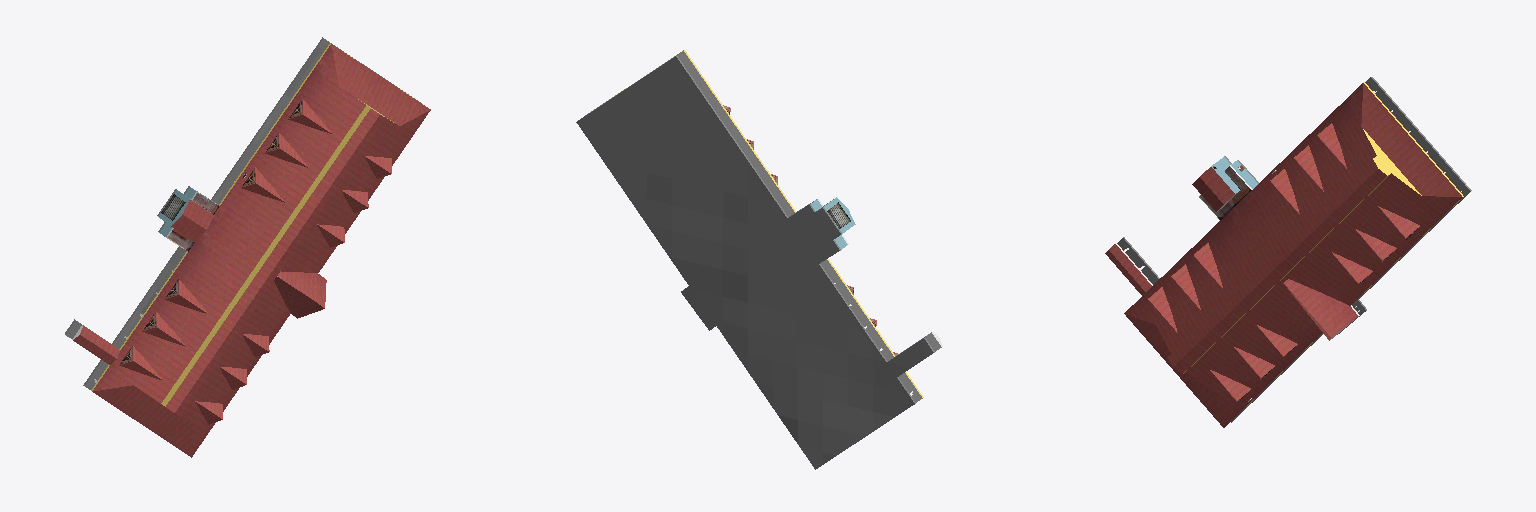
The picture shows the model from 3 angles: view 1: azimuth 30°, elevation 25°; view 2: azimuth 150°, elevation 25°; view 3: azimuth 330°, elevation 25°; orthographic projection.
Parts seen in each view (by area): view 1: polygon.812; view 2: polygon.812; view 3: polygon.812.
Boxes of the visible parts, x1=… form: polygon.812: x1=65, y1=37, x2=430, y2=457; polygon.812: x1=576, y1=50, x2=942, y2=469; polygon.812: x1=1105, y1=77, x2=1471, y2=427.
Bounding box in the file's own units: 91.72 × 92.97 × 11.37.
Materials: 1 (1 with a texture image).